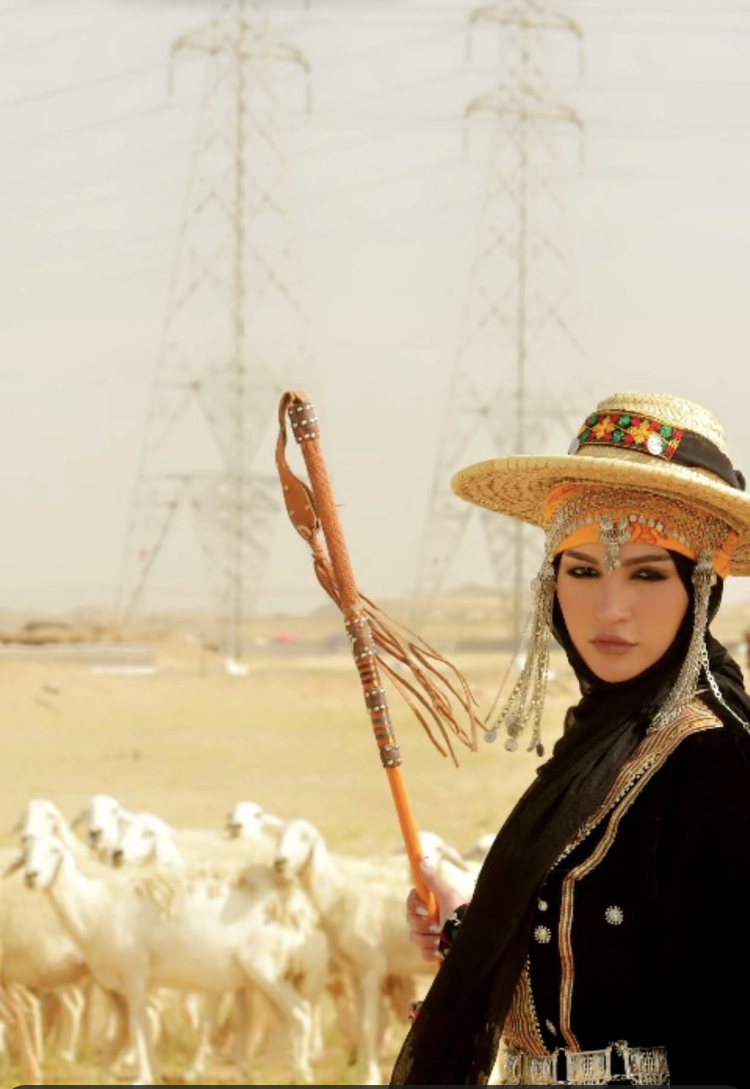Saudi_Founding_Day: (264, 379, 750, 1089)
